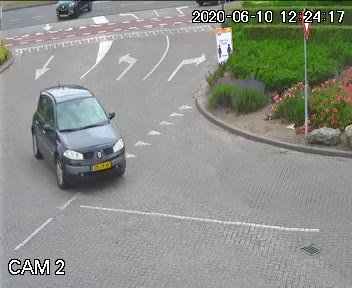car: (36, 77, 120, 198), (49, 0, 100, 22)
